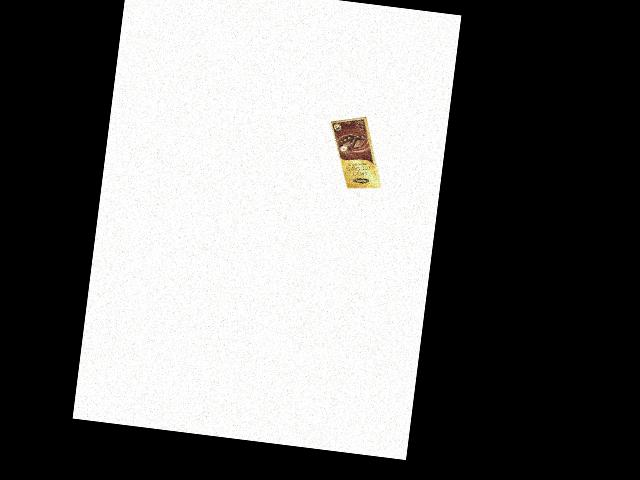chocolate: (322, 105, 392, 193)
